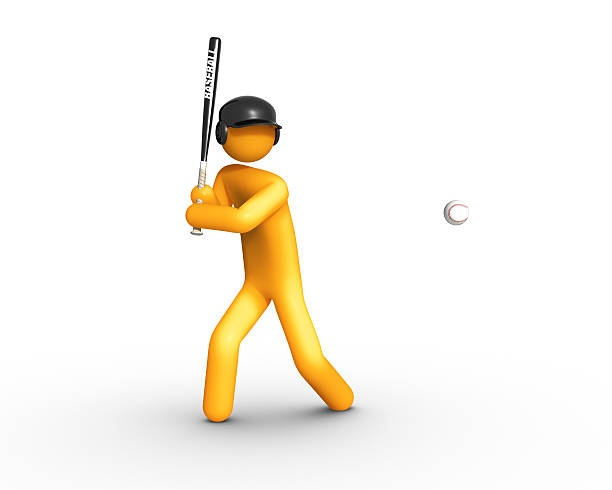bita: (202, 31, 228, 235)
